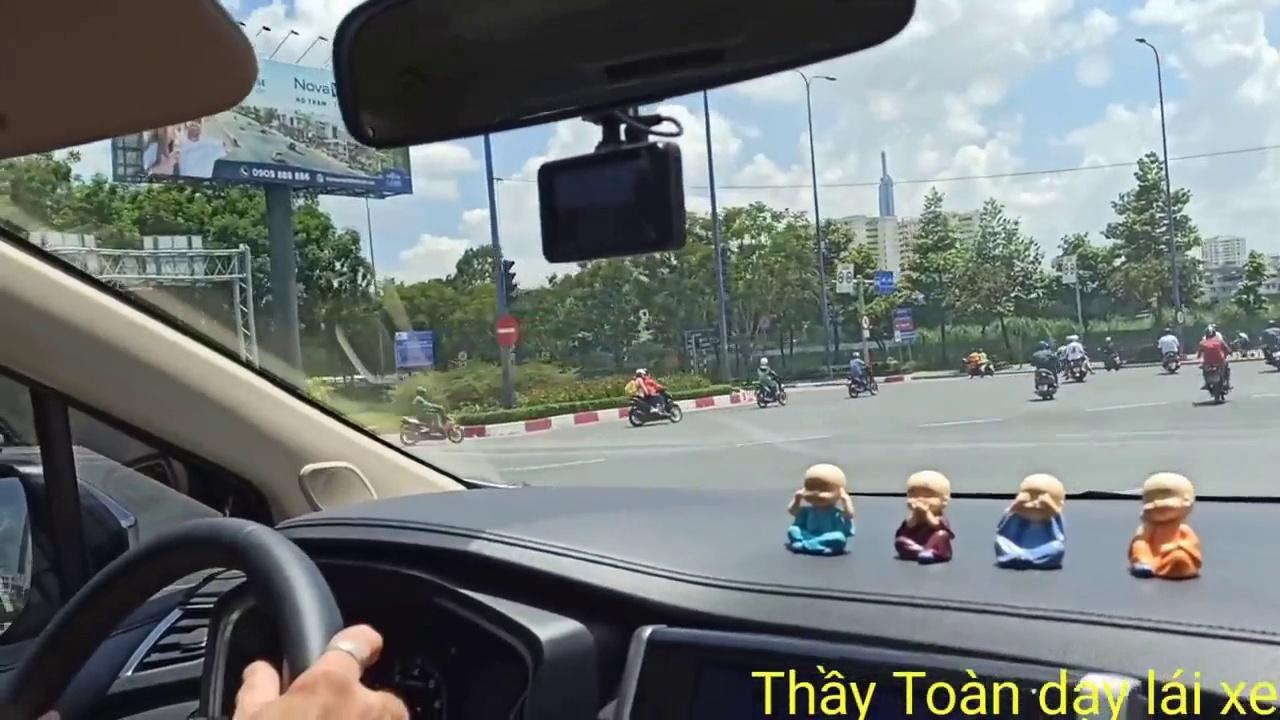Cấm cac phương tiện hoạt động trong khung giờ cố định: (836, 262, 854, 294)
Cấm đi ngược chiều: (490, 312, 520, 347)
Khác: (394, 330, 434, 368), (891, 307, 916, 345)
Làn đường cho từng xe: (872, 270, 894, 296)
